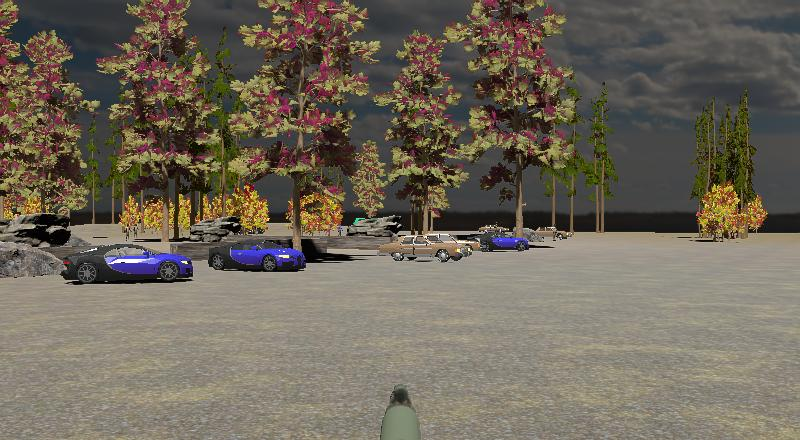car: (58, 242, 194, 286), (208, 236, 306, 273), (376, 233, 468, 263), (414, 232, 468, 262), (480, 231, 529, 253), (533, 224, 560, 241), (510, 225, 536, 241)
